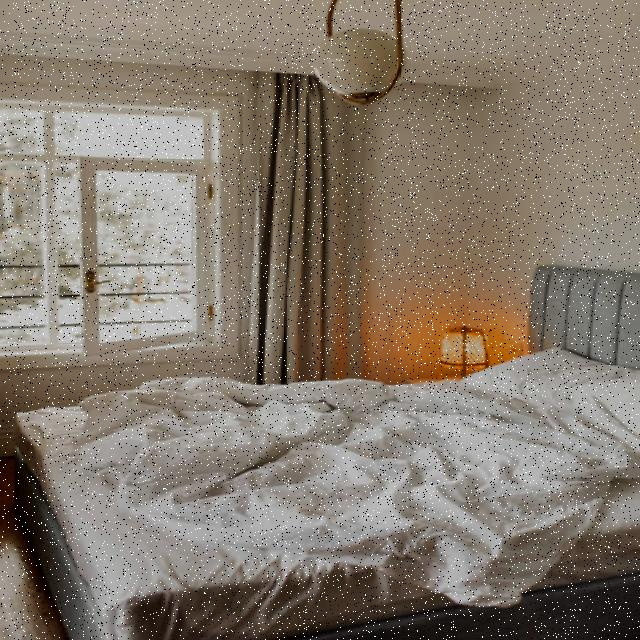bed: (5, 338, 640, 640)
